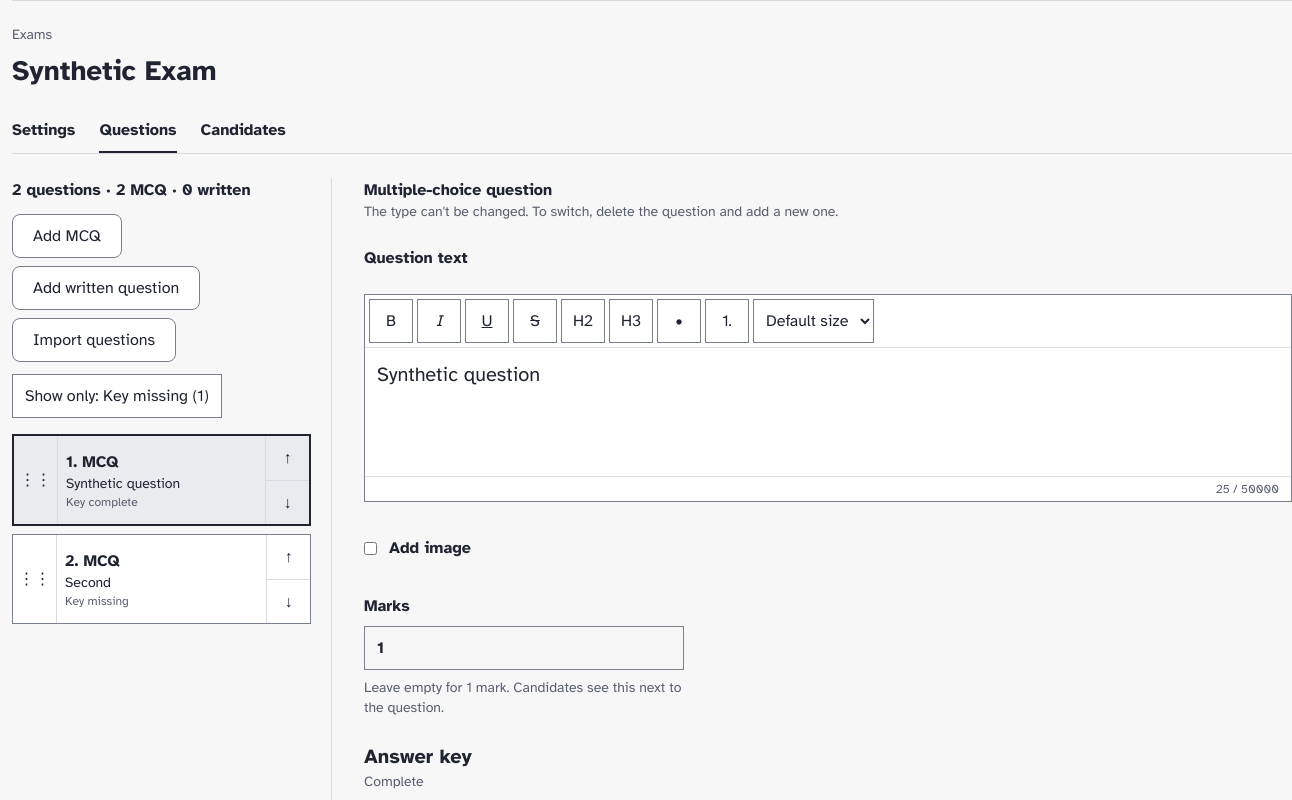
Test case: QuestionBuilder › disables all reorder controls while the key-missing filter is active
This screenshot has width=1292, height=800.
Check: the text "Second" is shown, box [65,574,111,591]
Click the button "Show only: Key missing (1)" at {"x": 117, "y": 396}, box [12,374,222,418]
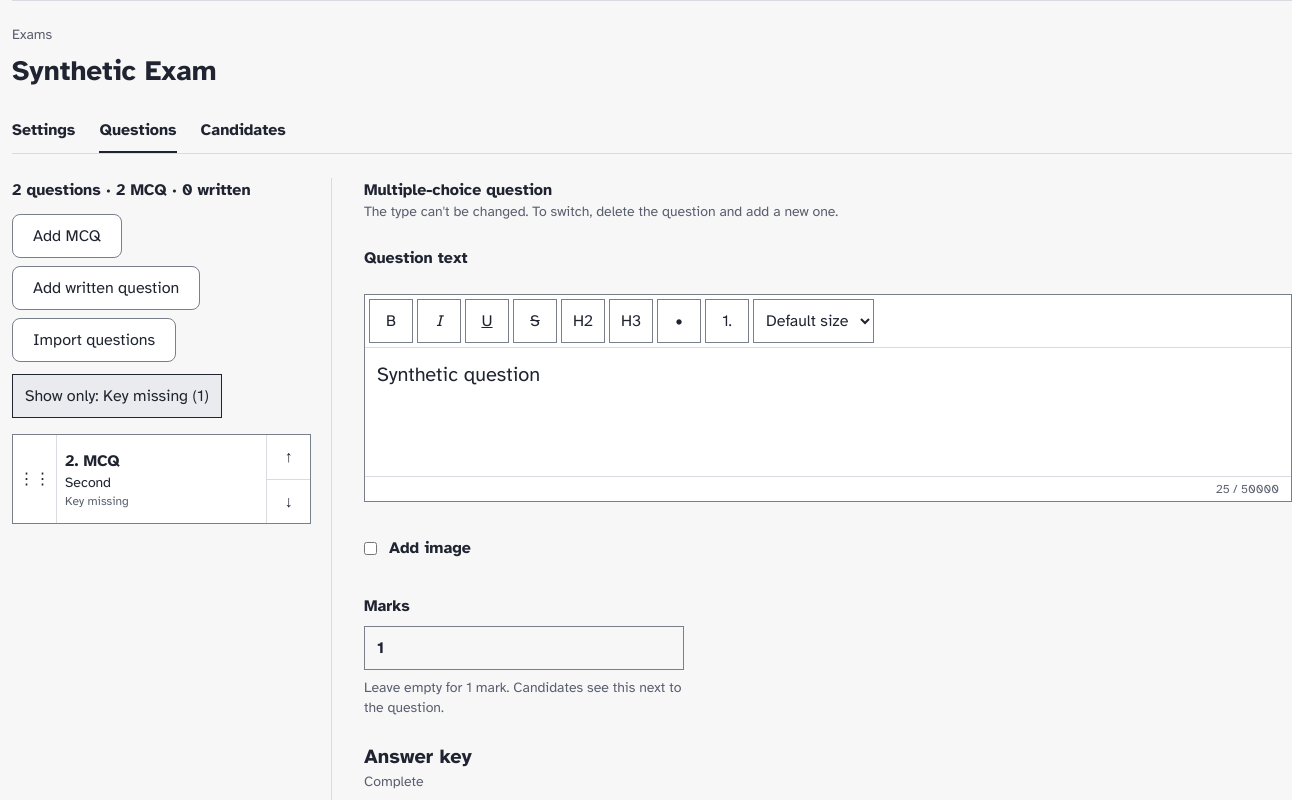
Check: the button named "Move question 2 up" is disabled, box [266,435,310,479]
Check: the button named "Drag question 2" is disabled, box [13,435,57,523]
